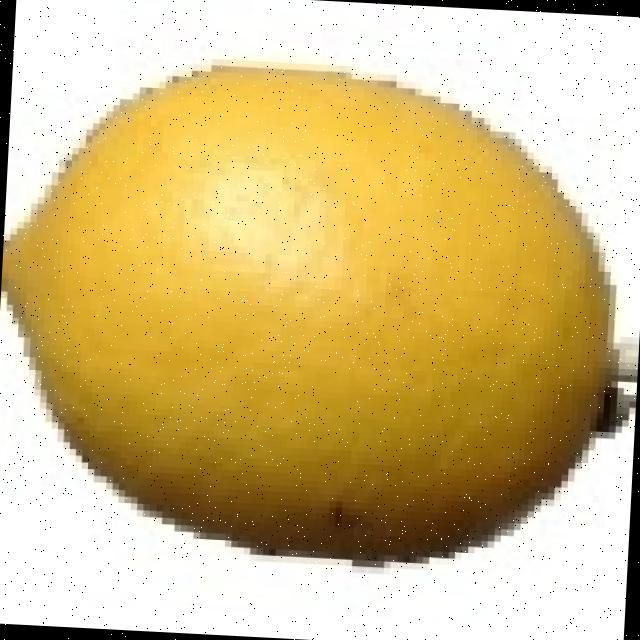lemon: (1, 67, 618, 560)
